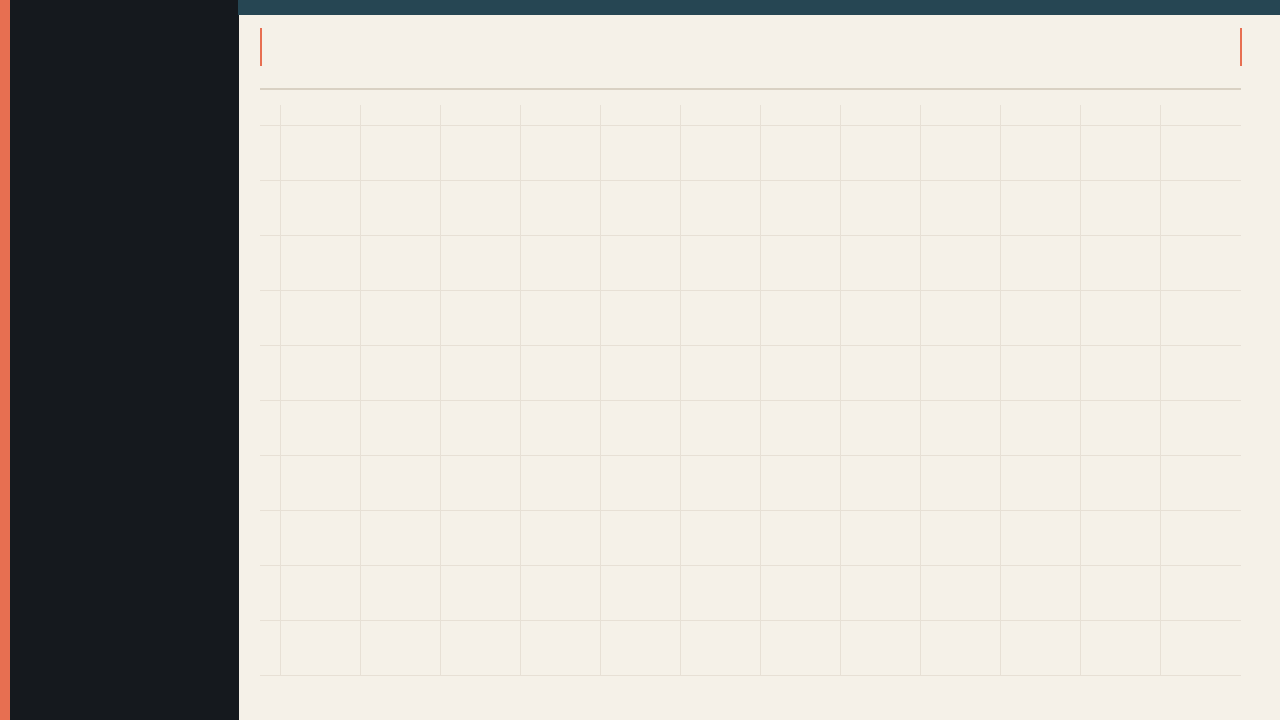

The page's visual inventory and layout, read from the dashboard file:
{"tool":"powerbi","page":{"name":"Methodology & Sources","canvas":[1280,720],"ordinal":3},"visuals":[{"type":"textbox","box":[24.6,9.4,340.2,45.4],"z":1041},{"type":"textbox","box":[24,30,430,48],"z":1042},{"type":"textbox","box":[24,80,620,25],"z":1043},{"type":"textbox","box":[41.6,669,230.6,32.1],"z":1044},{"type":"textbox","box":[1035.6,669,189,32.1],"z":1045},{"type":"textbox","box":[24.6,134.2,340.2,30.2],"z":1046},{"type":"textbox","box":[24,170,585,190],"z":1047},{"type":"textbox","box":[640,135,260,30],"z":1048},{"type":"textbox","box":[640,170,612,190],"z":1049},{"type":"textbox","box":[24,390,260,30],"z":1050},{"type":"textbox","box":[24,425,585,210],"z":1051},{"type":"textbox","box":[640.6,389.3,291,30.2],"z":1052},{"type":"textbox","box":[640,425,612,210],"z":1053},{"type":"textbox","box":[289.1,669,701.1,32.1],"z":1054}]}

Visuals, with their boxes on the page's 1280x720 design canvas (x1, y1, x2, y2). These are canvas units, not pixel positions in the 1280x720 screenshot, which may show the page scaled, cropped or inside an application window:
textbox: rect(25, 9, 365, 55)
textbox: rect(24, 30, 454, 78)
textbox: rect(24, 80, 644, 105)
textbox: rect(42, 669, 272, 701)
textbox: rect(1036, 669, 1225, 701)
textbox: rect(25, 134, 365, 164)
textbox: rect(24, 170, 609, 360)
textbox: rect(640, 135, 900, 165)
textbox: rect(640, 170, 1252, 360)
textbox: rect(24, 390, 284, 420)
textbox: rect(24, 425, 609, 635)
textbox: rect(641, 389, 932, 420)
textbox: rect(640, 425, 1252, 635)
textbox: rect(289, 669, 990, 701)
